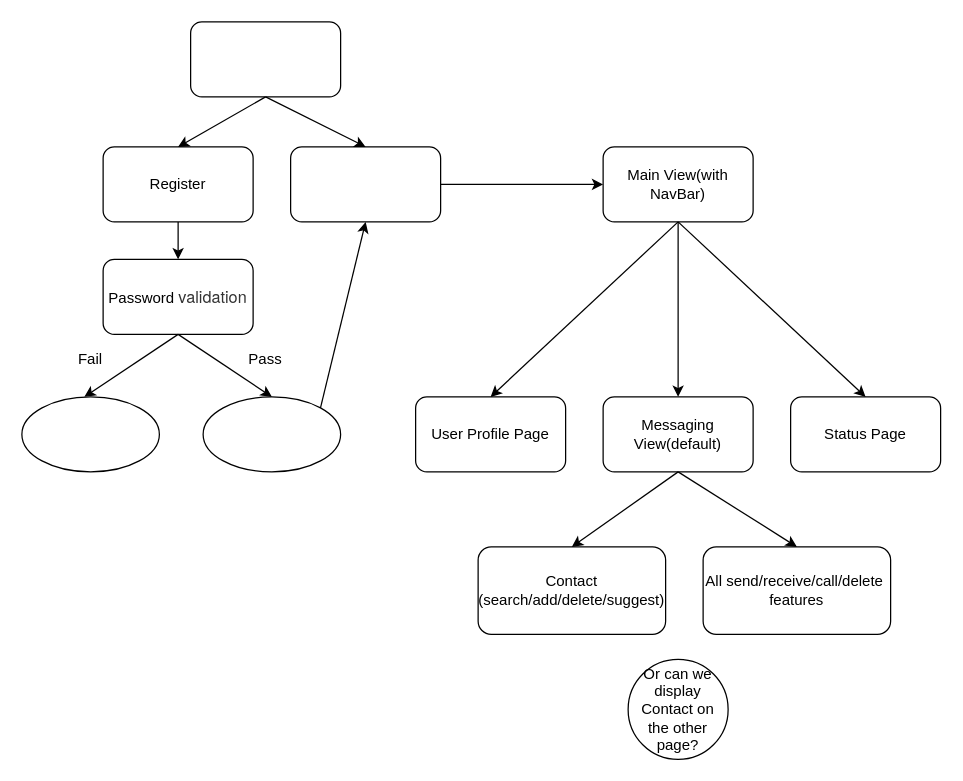
Image size: 963x781. Some labels were removed from this diagram. Here are the shapes that lost their labels. From the top down, the box of each, then its label:
(189, 21, 341, 97): APP
(289, 146, 441, 222): Login
(21, 396, 159, 472): Error Message
(202, 396, 341, 472): Store in Database
